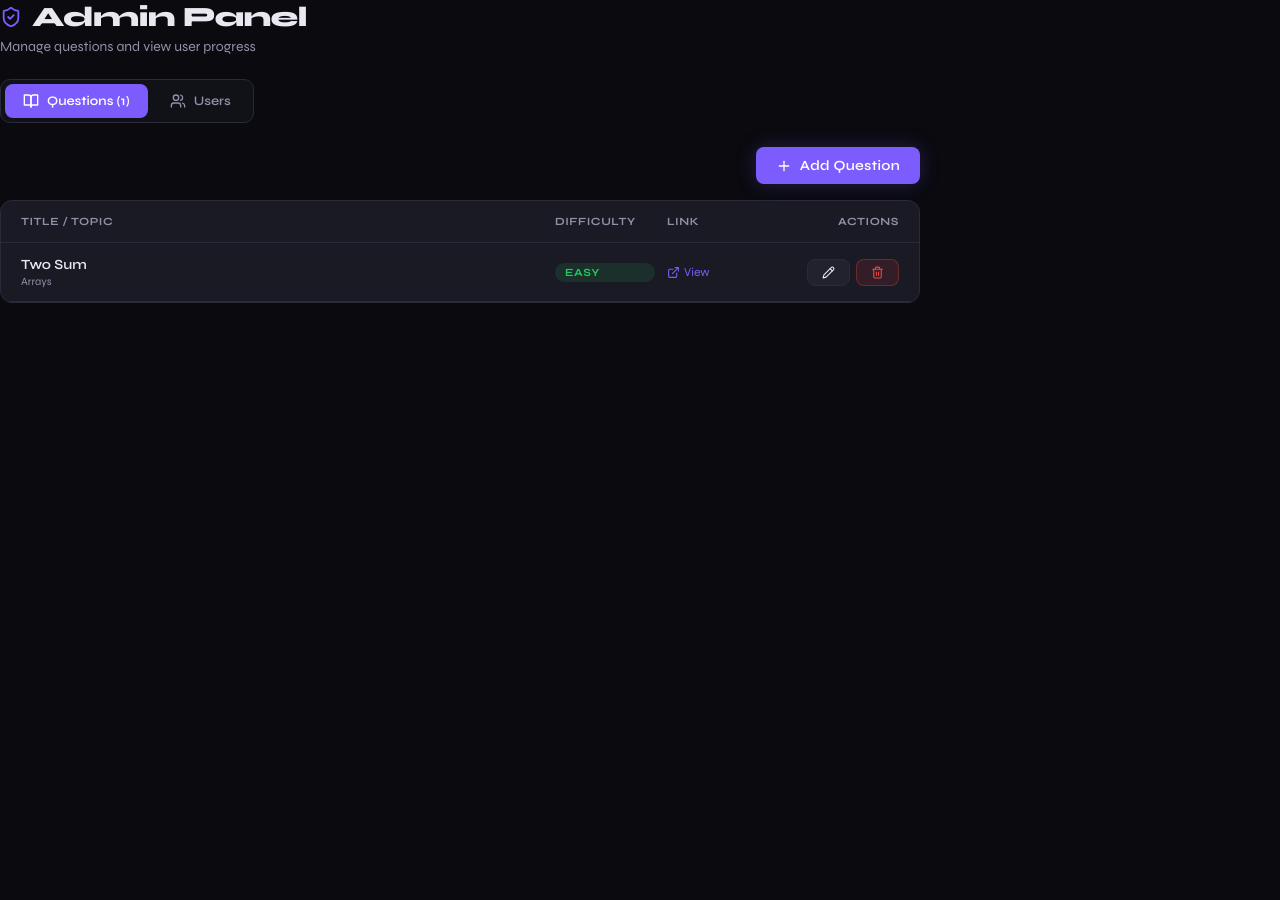
AdminPage › opens delete confirmation
Click the button titled "Delete": [878, 272] box [856, 258, 899, 286]
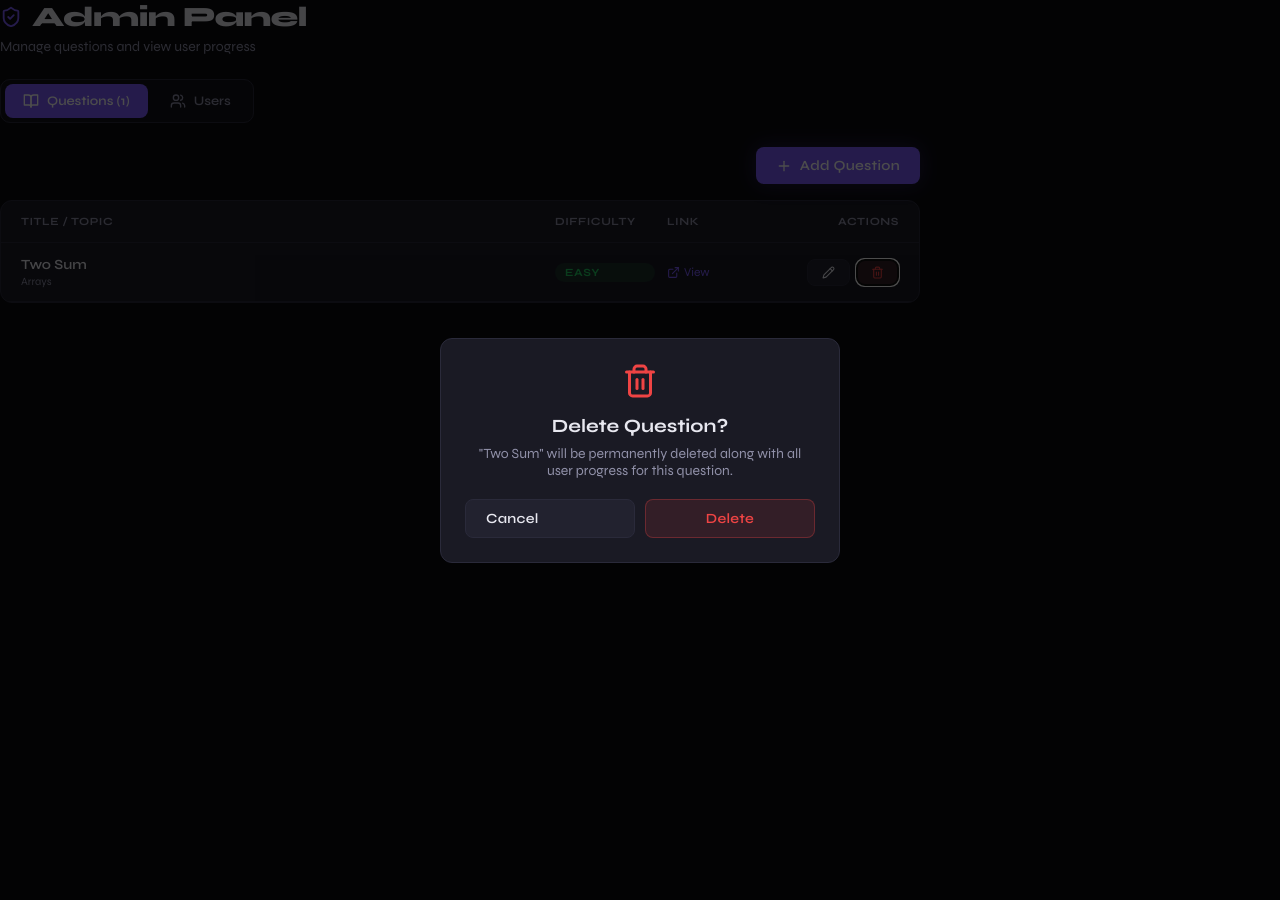
Now the heading "Delete Question?" is shown, box [552, 414, 728, 436]
